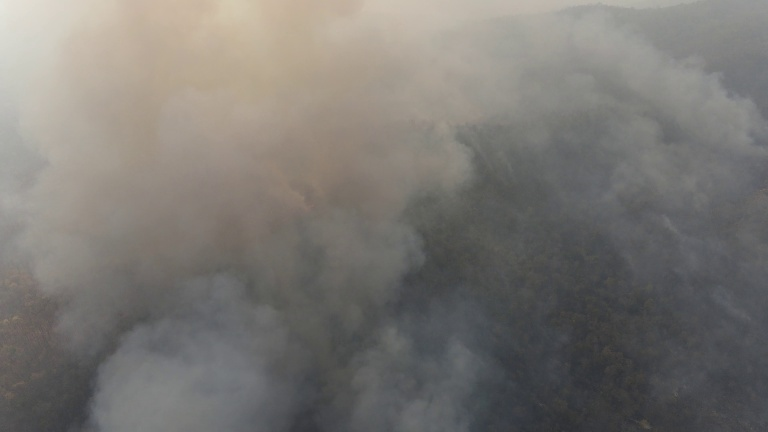smoke: (51, 1, 446, 292), (70, 285, 320, 429), (560, 30, 768, 184)
